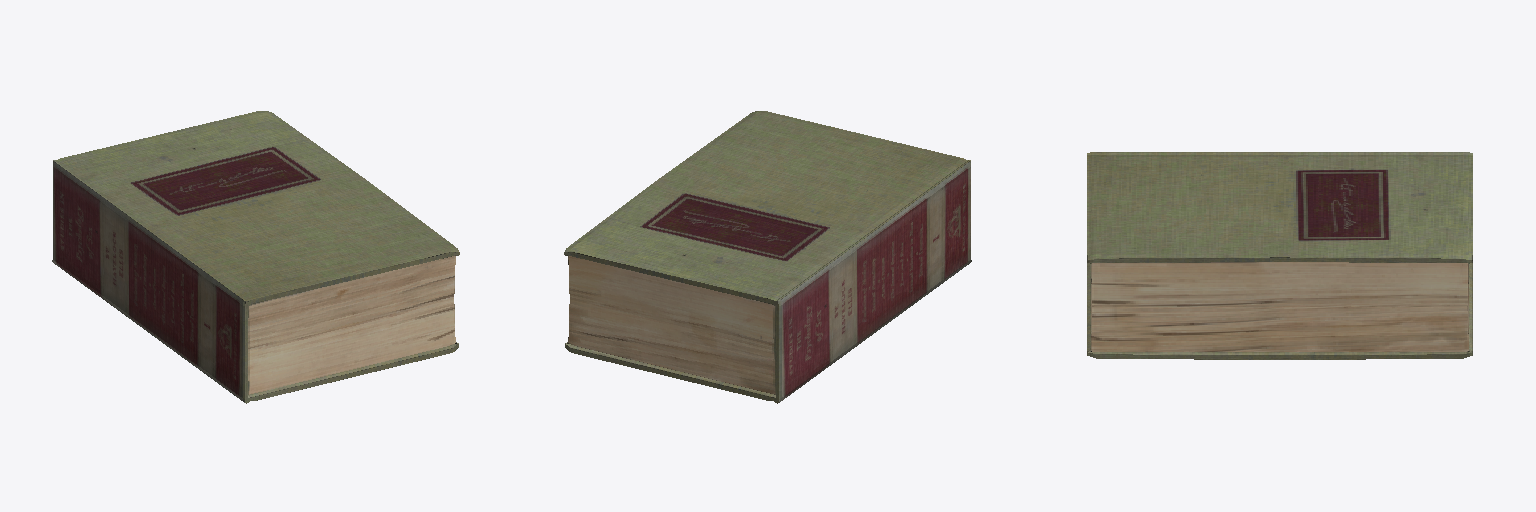
The picture shows the model from 3 angles: view 1: azimuth 30°, elevation 25°; view 2: azimuth 150°, elevation 25°; view 3: azimuth 270°, elevation 25°; orthographic projection.
Parts seen in each view (by area): view 1: Mesh; view 2: Mesh; view 3: Mesh.
Part boxes in pixels (bbox=[...]): Mesh: bbox=[52, 111, 459, 403]; Mesh: bbox=[564, 111, 971, 403]; Mesh: bbox=[1087, 152, 1472, 359].
Size of the model in its own units: 0.2857 by 0.1293 by 0.4395.
1 materials, 1 textured.